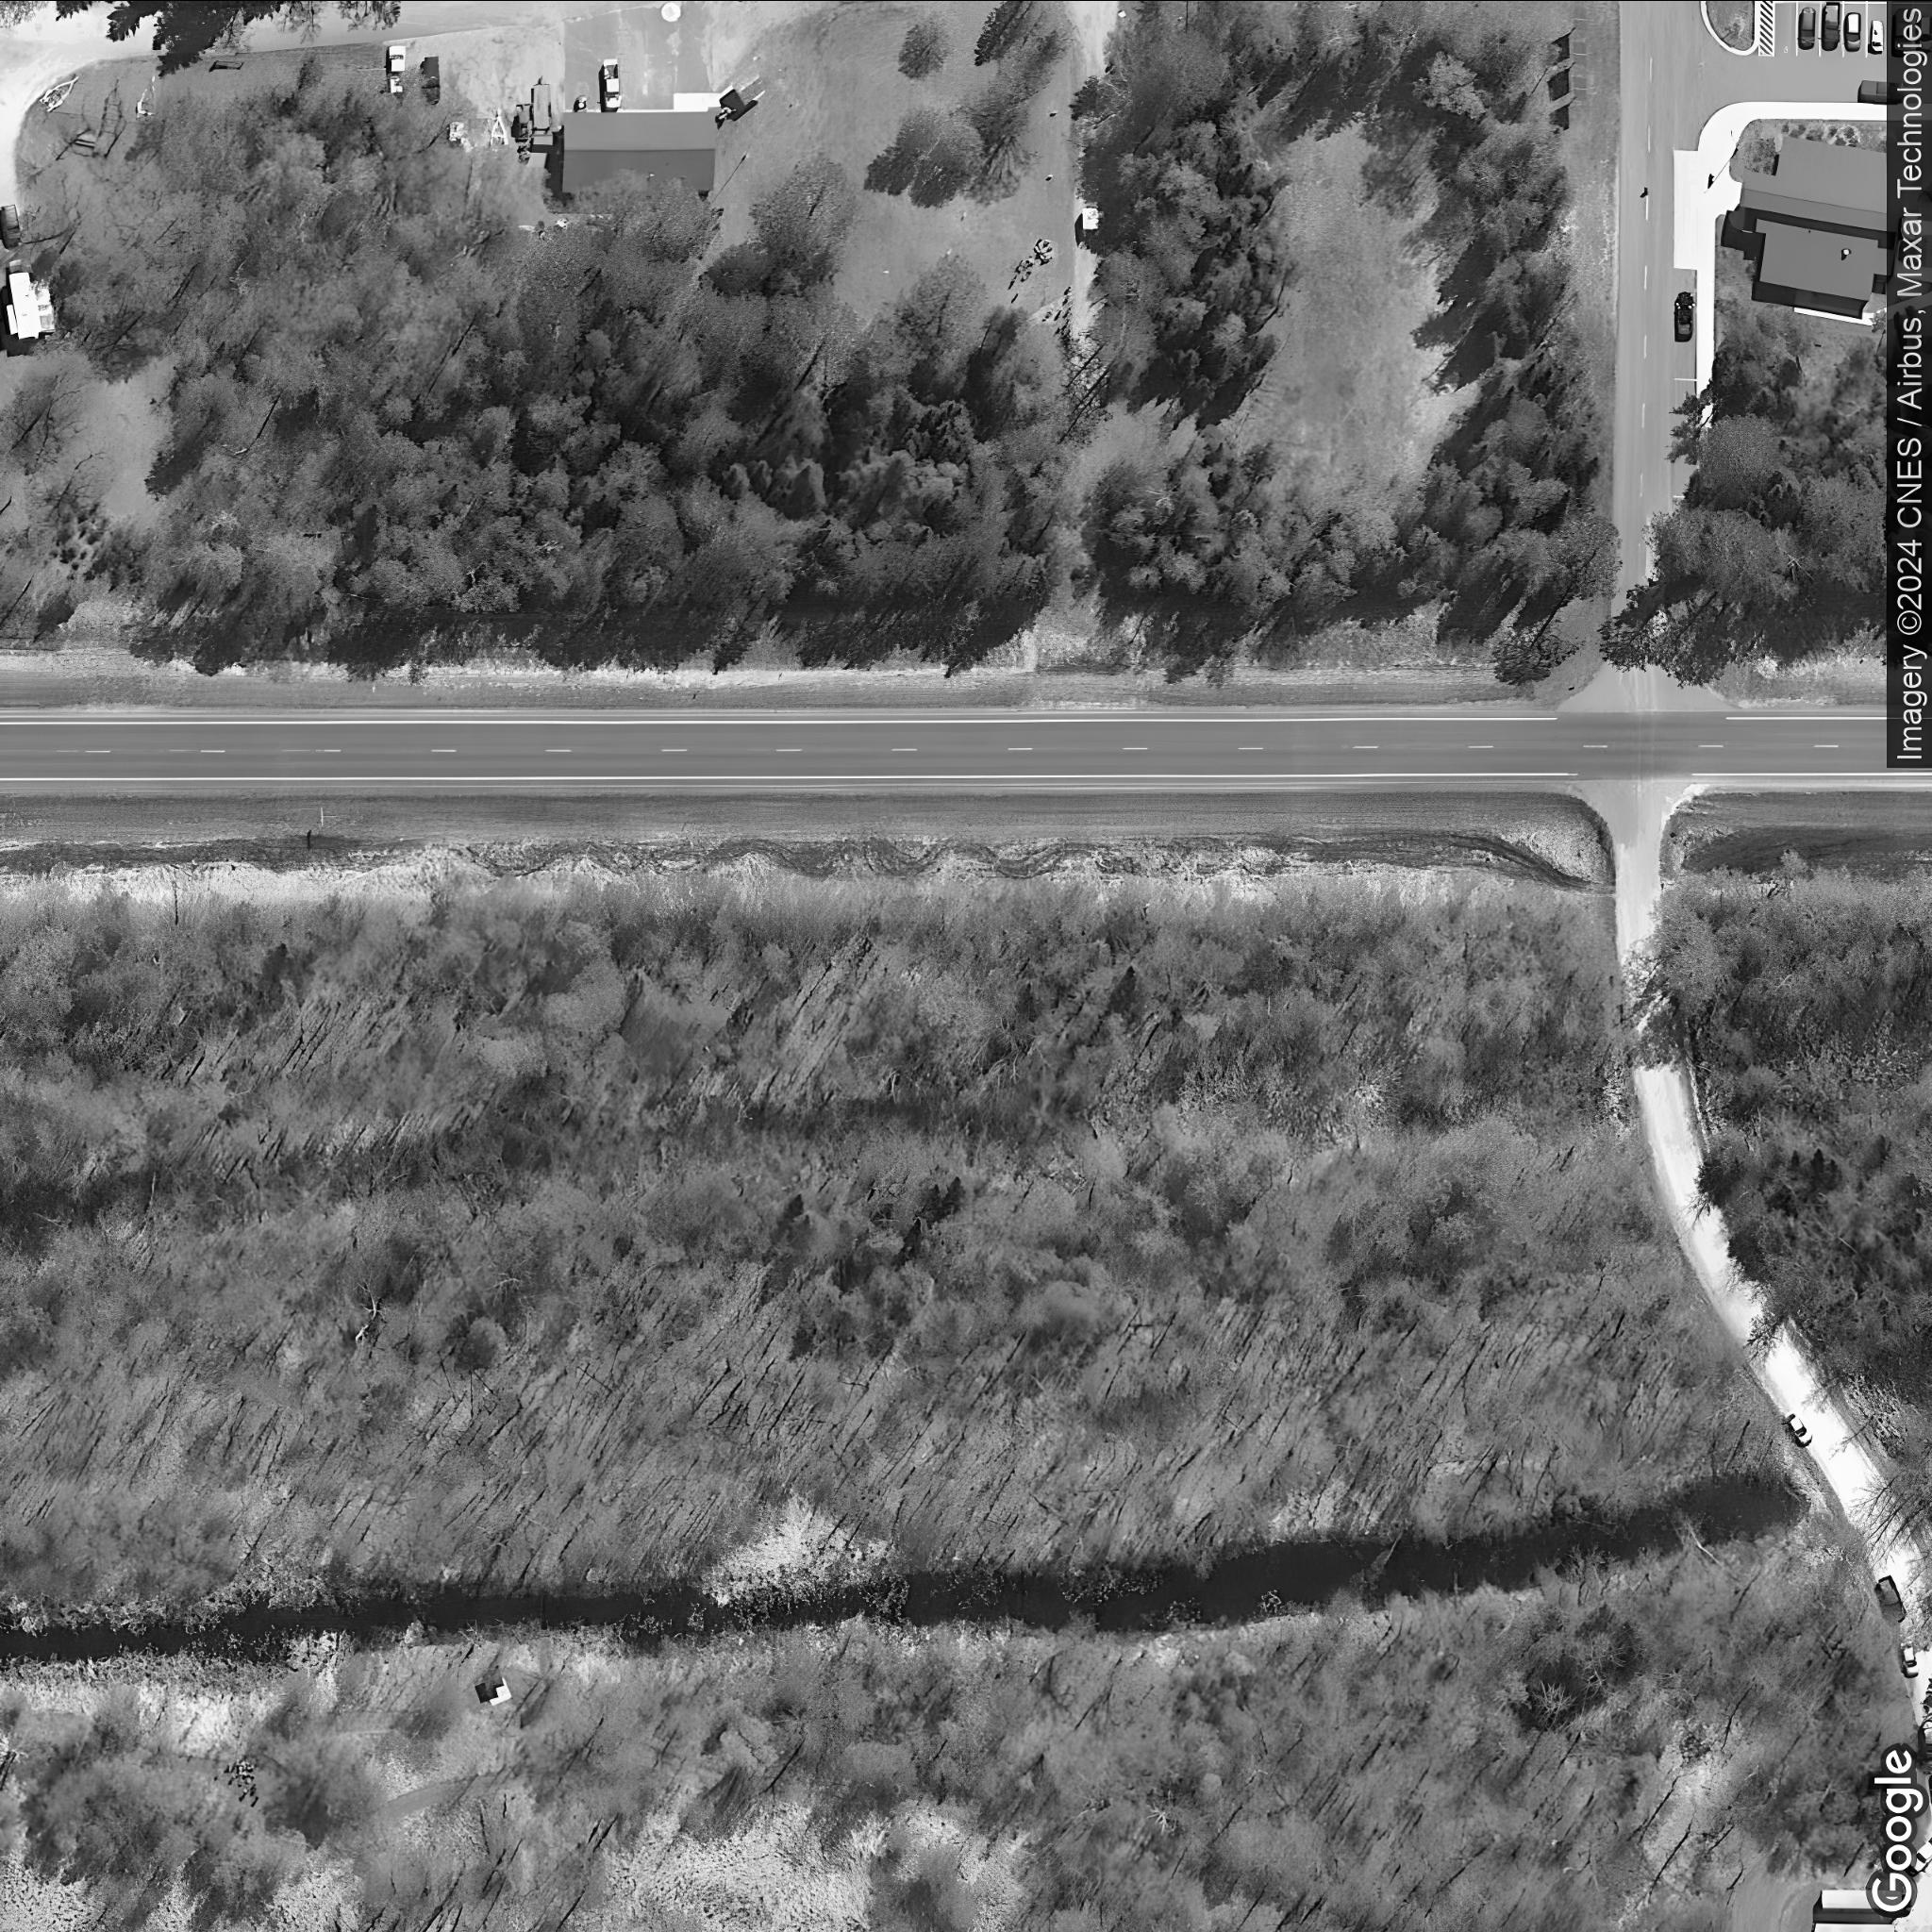House: (1739, 134, 1886, 301), (557, 106, 718, 198)
